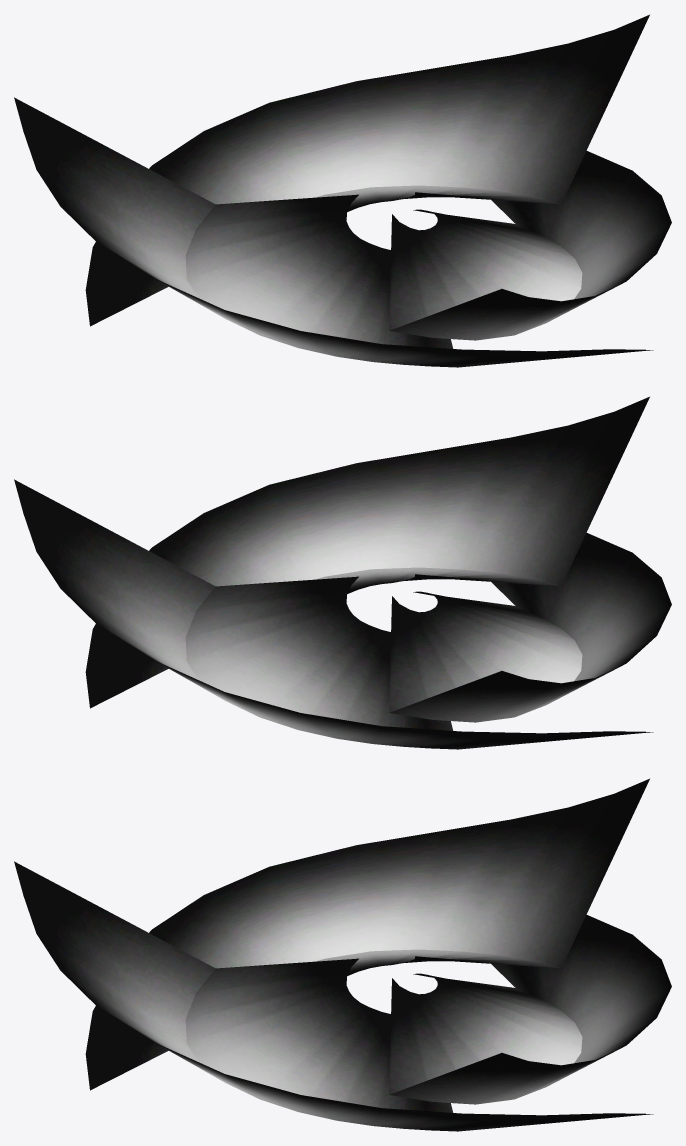
Rendered from vfx_kurp_0953.dae.
3 views of the same model, one above another, from view 1: azimuth 30°, elevation 25°; view 2: azimuth 150°, elevation 25°; view 3: azimuth 270°, elevation 25° (orthographic).
Parts seen in each view (by area): view 1: vfx_kurp_0953; view 2: vfx_kurp_0953; view 3: vfx_kurp_0953.
Boxes of the visible parts, <box> form: vfx_kurp_0953: <box>14,14,671,367</box>; vfx_kurp_0953: <box>14,396,671,749</box>; vfx_kurp_0953: <box>14,778,671,1131</box>.
Bounding box in the file's own units: 11.83 × 11.22 × 2.92.
Materials: 1 (1 with a texture image).
